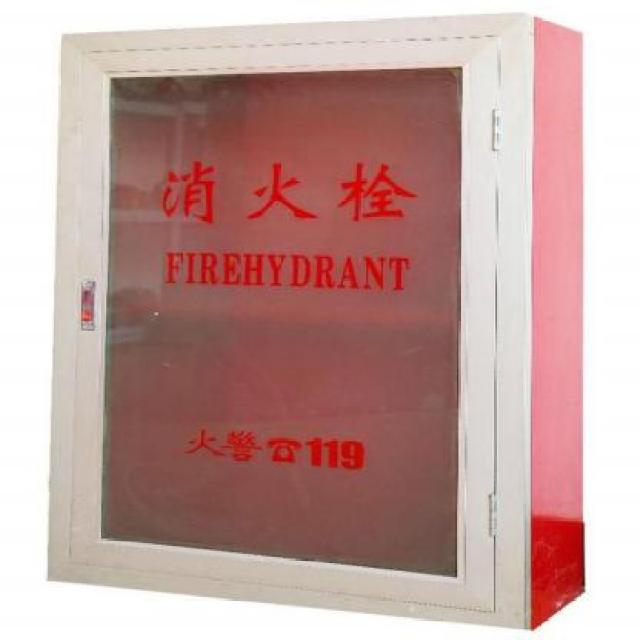firehydrant: (40, 9, 592, 637)
